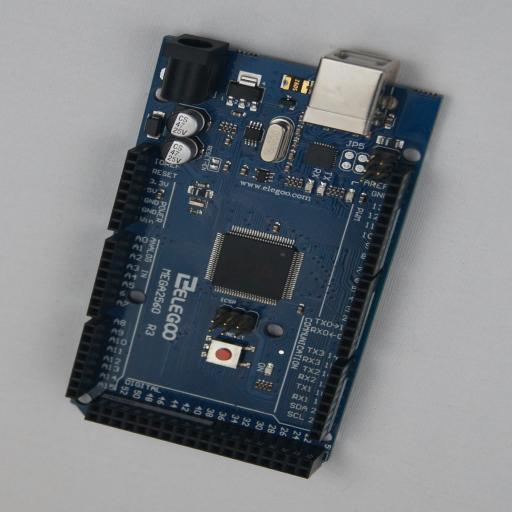ESP32_DEVKIT: (66, 34, 444, 478)
